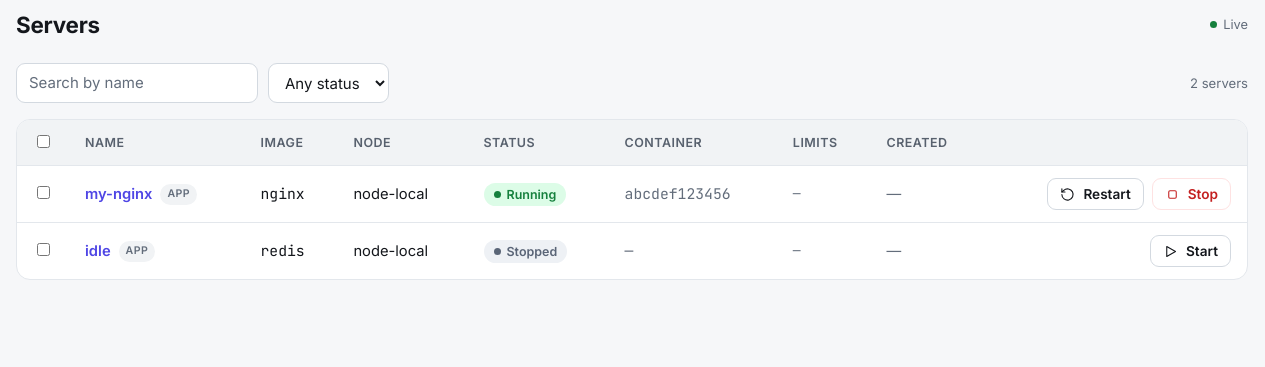
Scenario: Servers › bulk actions (#238) › offers bulk controls only once something is selected
Check: the button "my-nginx" is shown, box x1=85 y1=183 x2=152 y2=206
Click the checkbox named "Select my-nginx" at coordinates (44, 192), box x1=37 y1=186 x2=50 y2=199
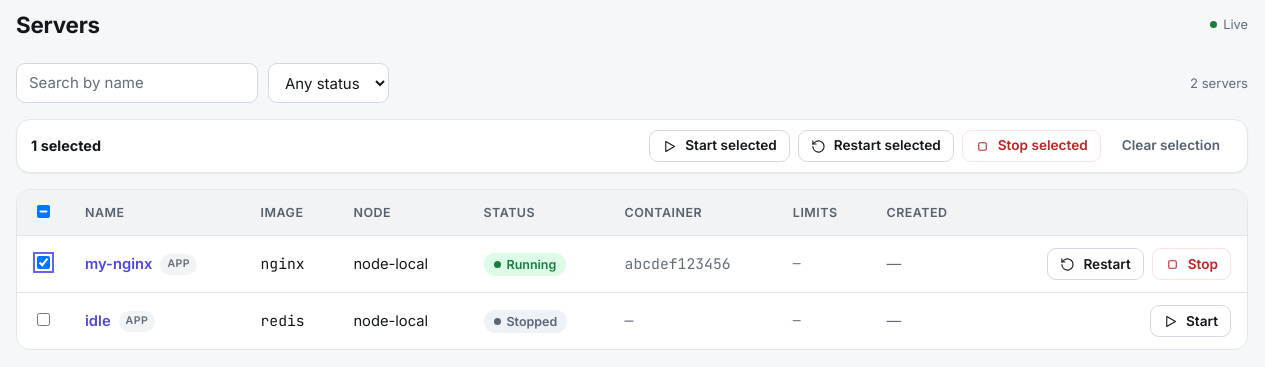
Check: the element named "Bulk actions" shows "1 selected", box x1=16 y1=119 x2=1248 y2=173
